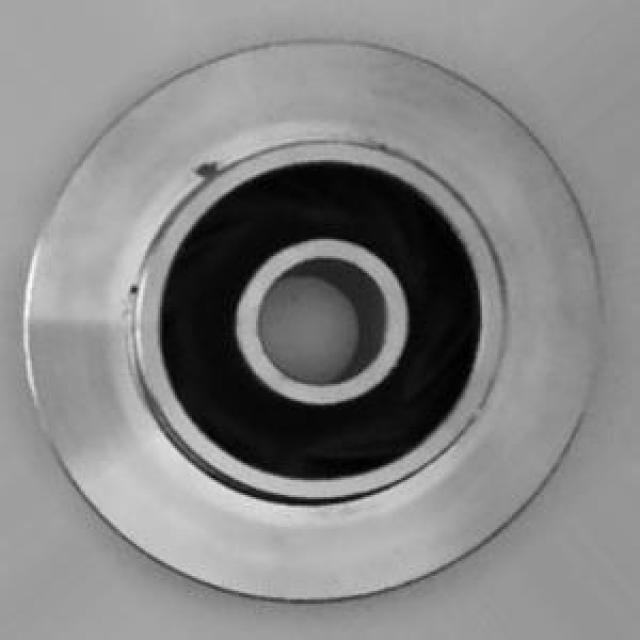Defect: (186, 151, 232, 192)
